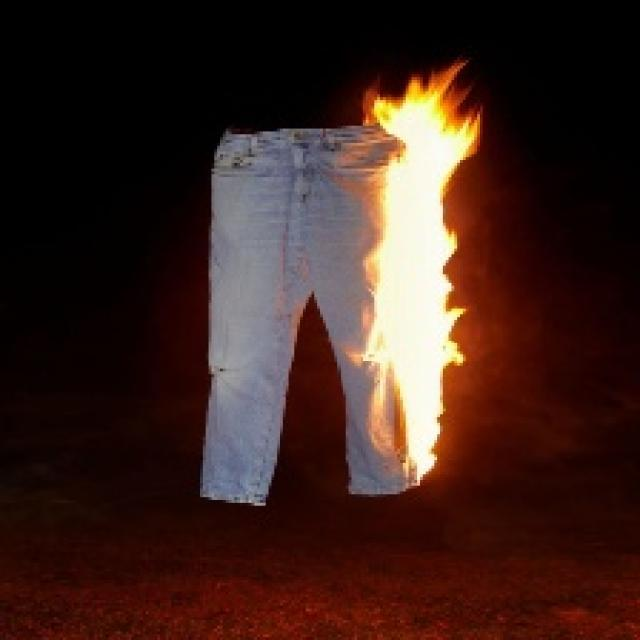Fire: (367, 68, 483, 484)
